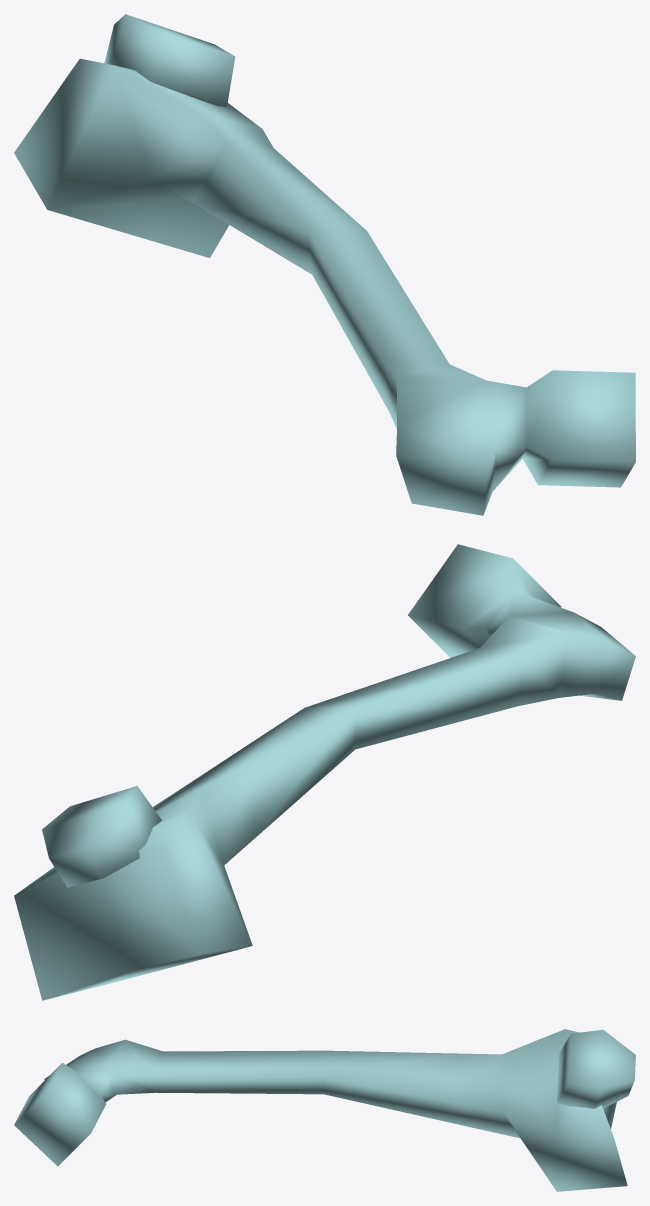
File: skelly_thigh.L.fbx
The picture shows the model from 3 angles, top to bottom: view 1: azimuth 30°, elevation 25°; view 2: azimuth 150°, elevation 25°; view 3: azimuth 270°, elevation 25°; orthographic projection. The views are drawn at different scales.
Parts seen in each view (by area): view 1: skelly_thigh.L; view 2: skelly_thigh.L; view 3: skelly_thigh.L.
Part boxes in pixels (x1=…): skelly_thigh.L: x1=14, y1=14, x2=635, y2=515; skelly_thigh.L: x1=14, y1=544, x2=635, y2=1000; skelly_thigh.L: x1=14, y1=1029, x2=635, y2=1191.
Size of the model in its own units: 14.37 by 12.88 by 49.36.
